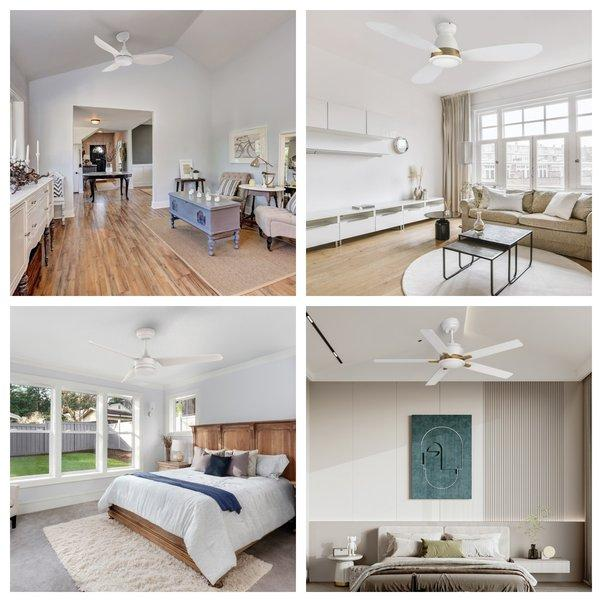bed: (106, 422, 296, 586), (352, 522, 536, 593)
chair: (259, 196, 305, 254), (211, 167, 259, 206)
clock: (386, 131, 419, 162)
fan: (356, 316, 542, 399), (357, 9, 544, 87), (69, 316, 233, 385), (86, 29, 173, 75), (84, 106, 116, 138)
light: (209, 346, 230, 366)
sofa: (456, 181, 602, 259)
table: (303, 192, 444, 250), (0, 179, 56, 304), (449, 222, 533, 285), (162, 189, 244, 249), (514, 551, 576, 582), (83, 167, 132, 205), (171, 172, 204, 224), (242, 182, 285, 221), (312, 554, 359, 587), (426, 207, 460, 239), (152, 452, 183, 476)
